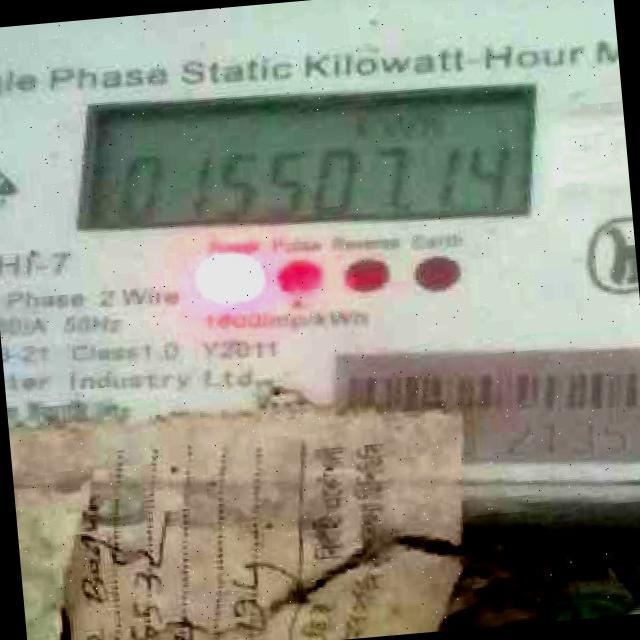LCD: (54, 52, 556, 270)
